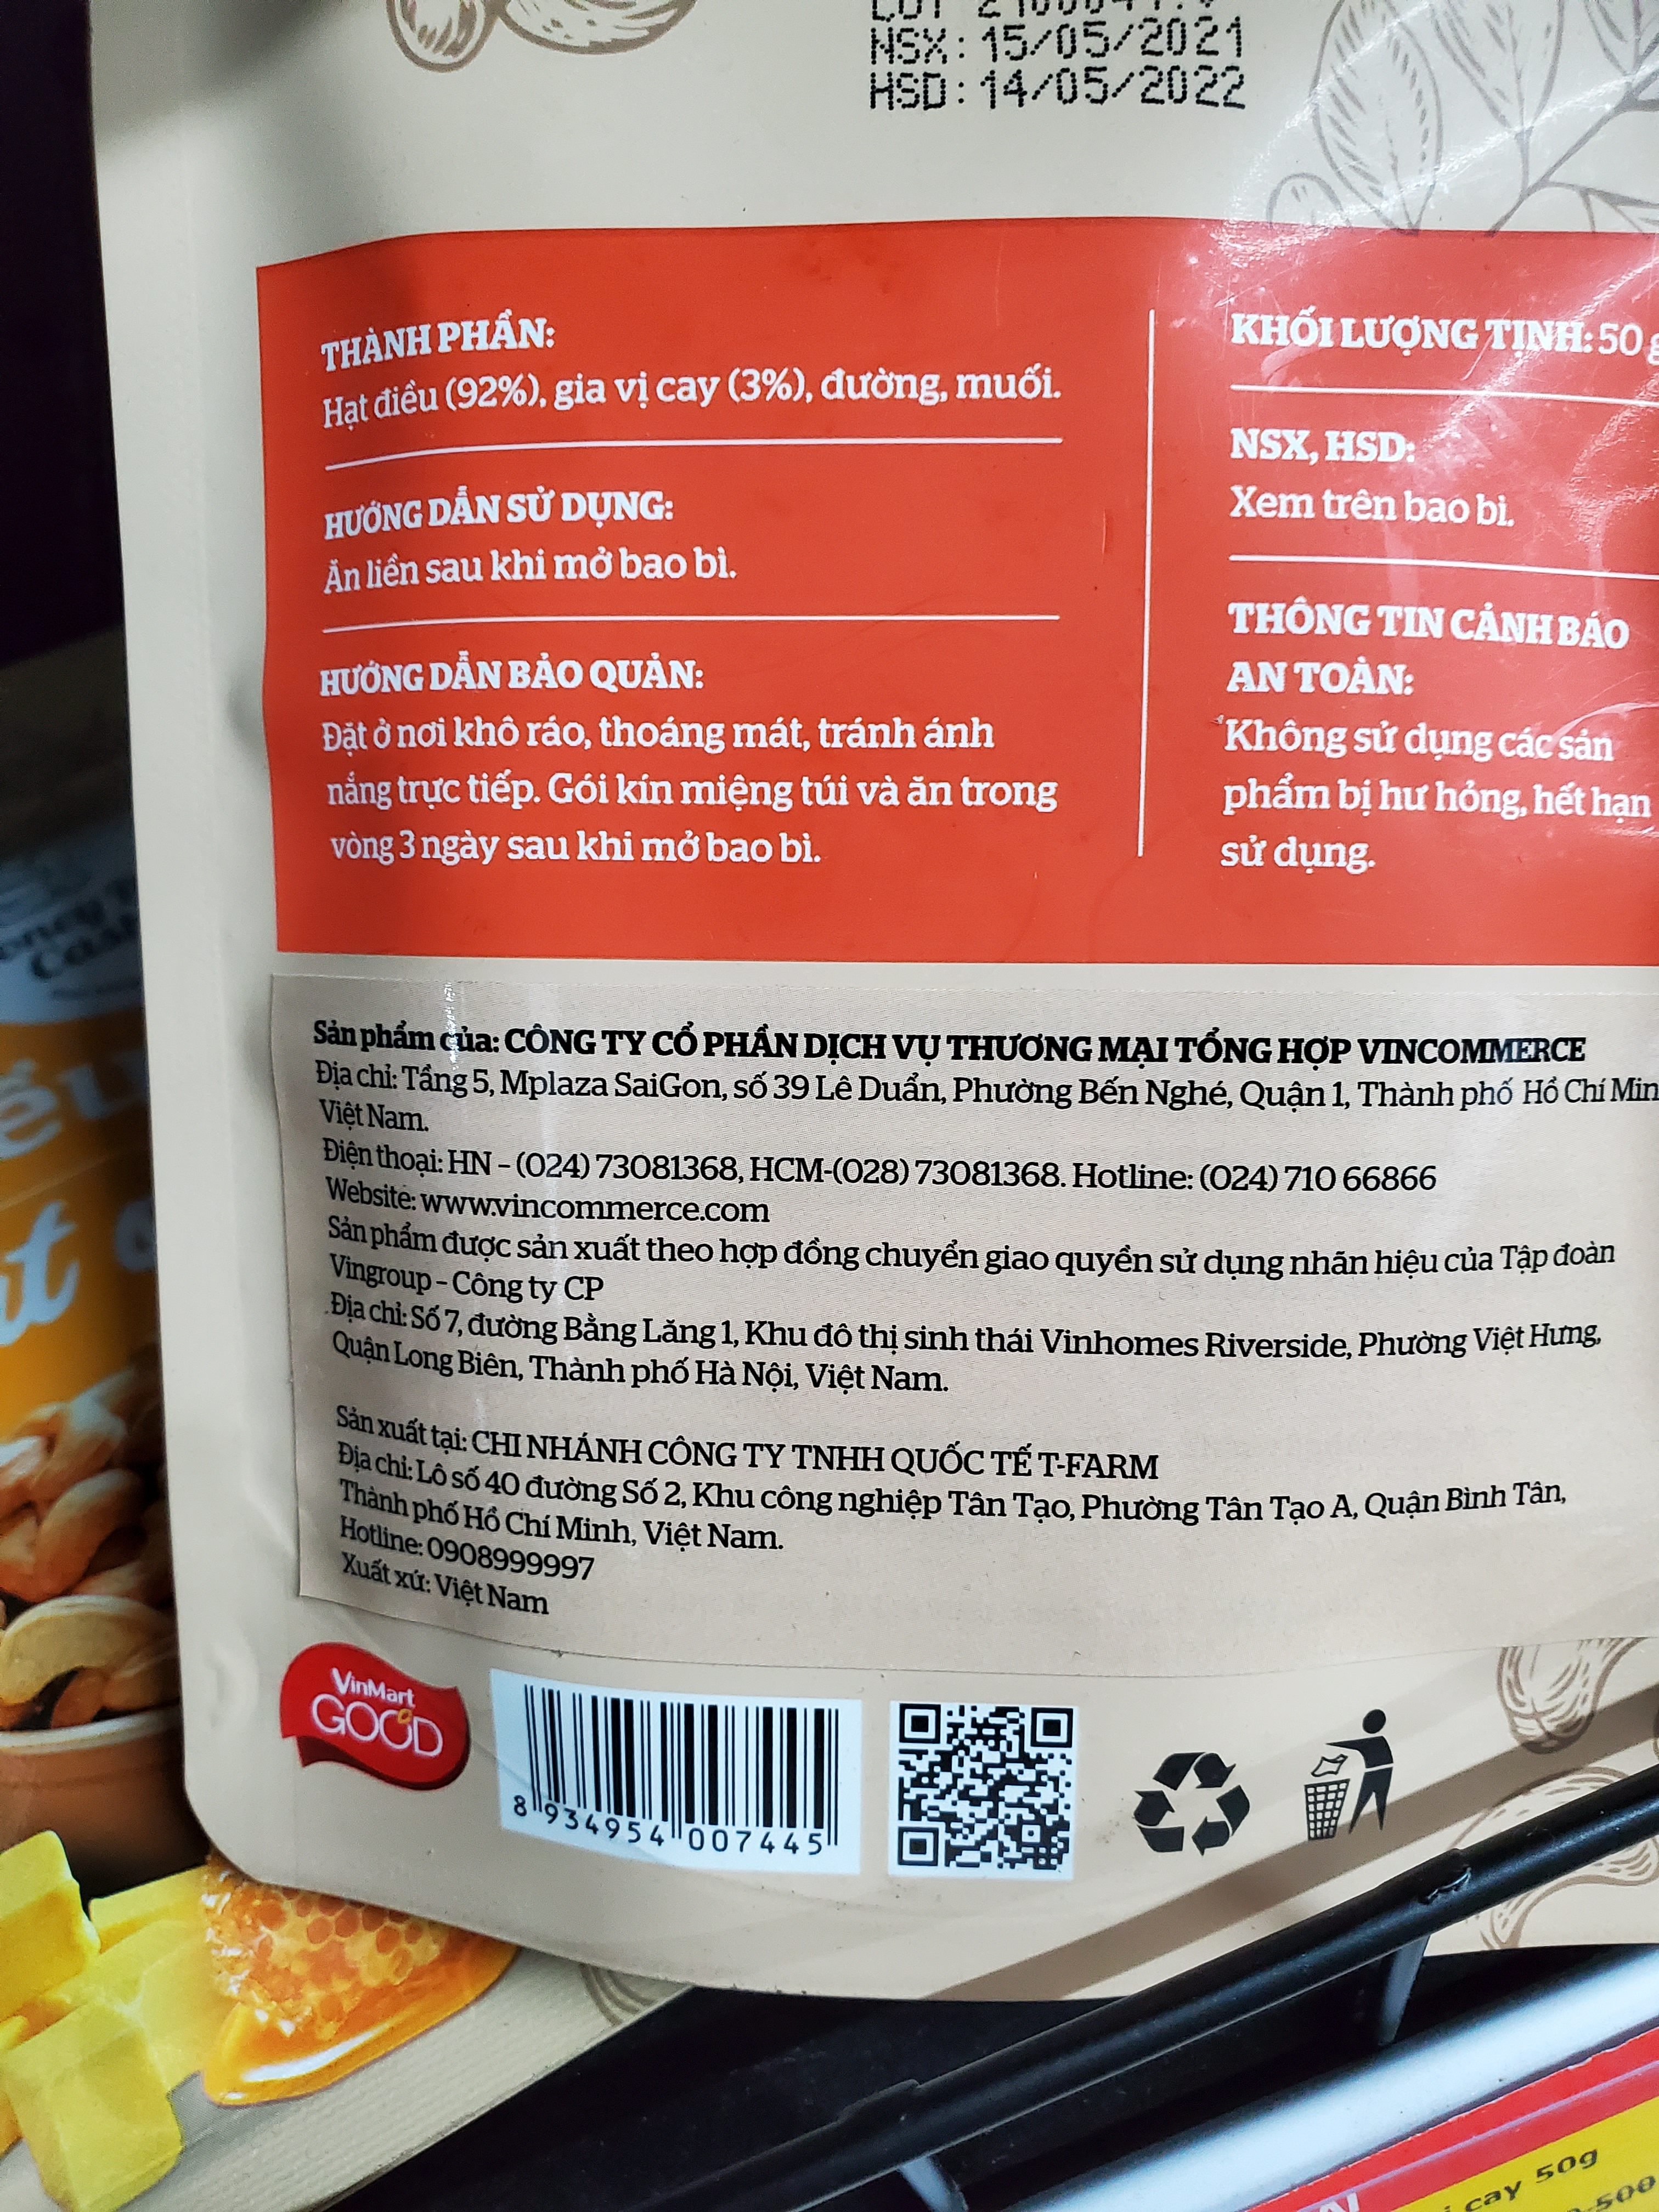barcode: (469, 1672, 871, 1885)
qr code: (882, 1695, 1101, 1892)
